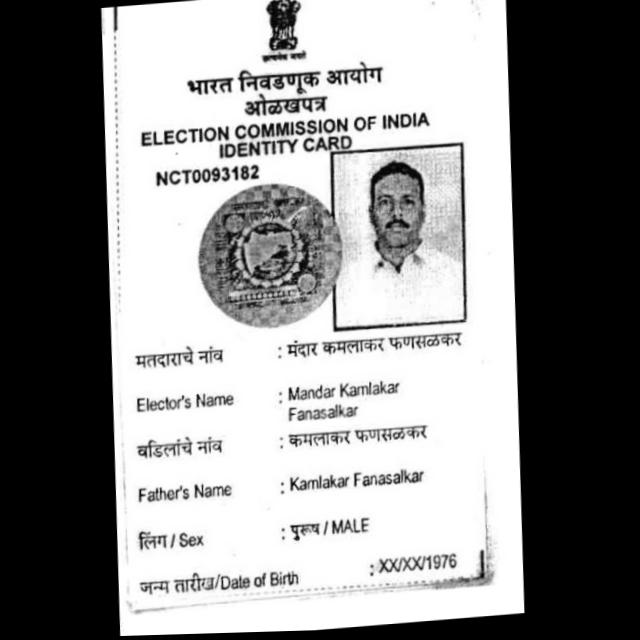voter_id: (90, 0, 515, 628)
